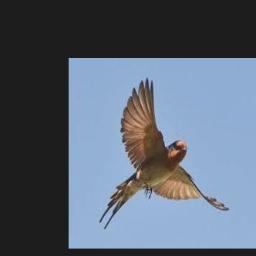Swallow: (99, 78, 230, 230)
